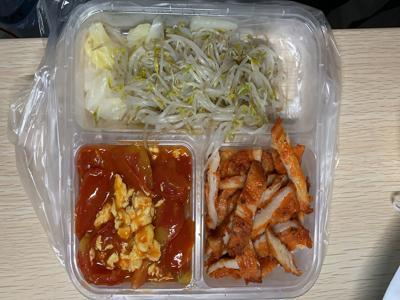jdxhs: (73, 143, 196, 289)
